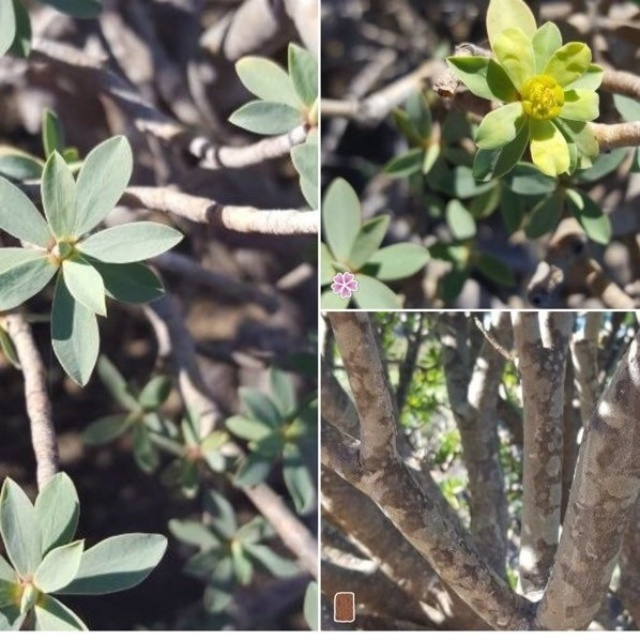obstacle: (339, 14, 599, 274), (7, 424, 182, 620), (20, 135, 170, 349)
